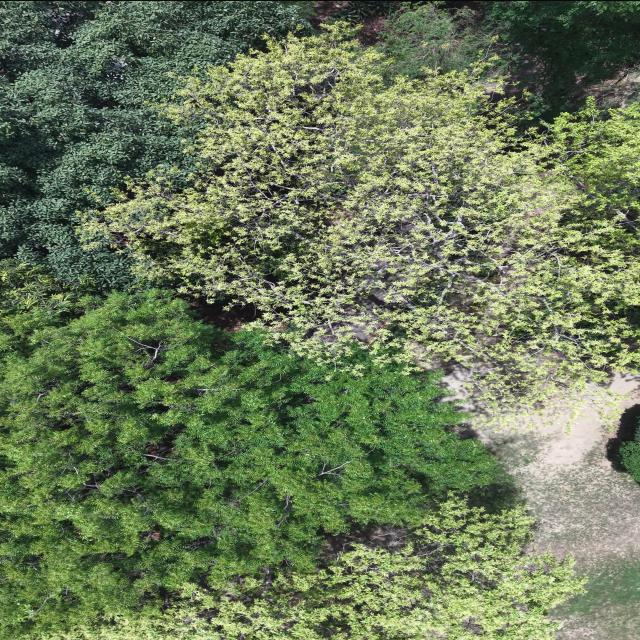DRY_AREA: (477, 374, 639, 639)
VEGETATION_TREE: (0, 1, 639, 639), (84, 25, 639, 419), (0, 291, 497, 634), (1, 1, 307, 288), (0, 1, 306, 288), (41, 499, 582, 639), (313, 1, 639, 119), (314, 1, 639, 118), (365, 3, 636, 122), (485, 1, 639, 100), (545, 101, 639, 262), (375, 3, 505, 75), (0, 258, 103, 321), (314, 1, 398, 21), (618, 419, 639, 480)
